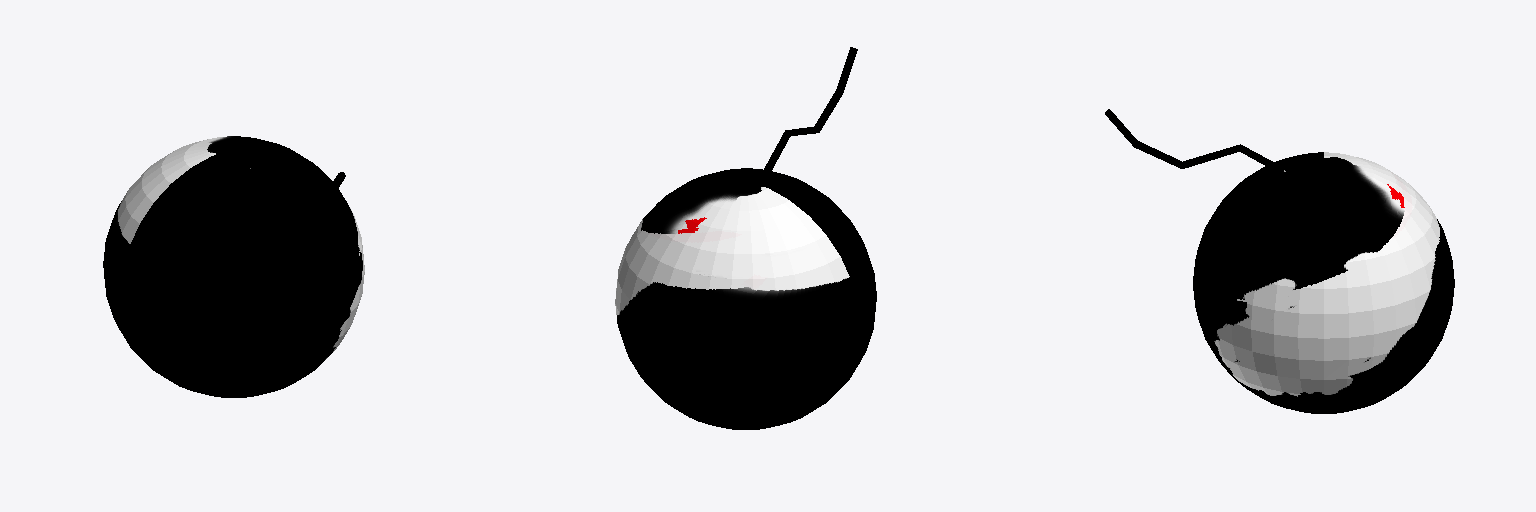
3 renders of one model, left to right at view 1: azimuth 30°, elevation 25°; view 2: azimuth 150°, elevation 25°; view 3: azimuth 270°, elevation 25°, orthographic.
Visible parts, largest first — view 1: Body; view 2: Body; view 3: Body.
Boxes of the visible parts, x1,y1,x2,y2 form: Body: [103, 136, 364, 397]; Body: [615, 47, 876, 429]; Body: [1105, 109, 1454, 413].
Bounding box in the file's own units: 0.8031 × 0.9876 × 1.07.
Materials: 1 (1 with a texture image).